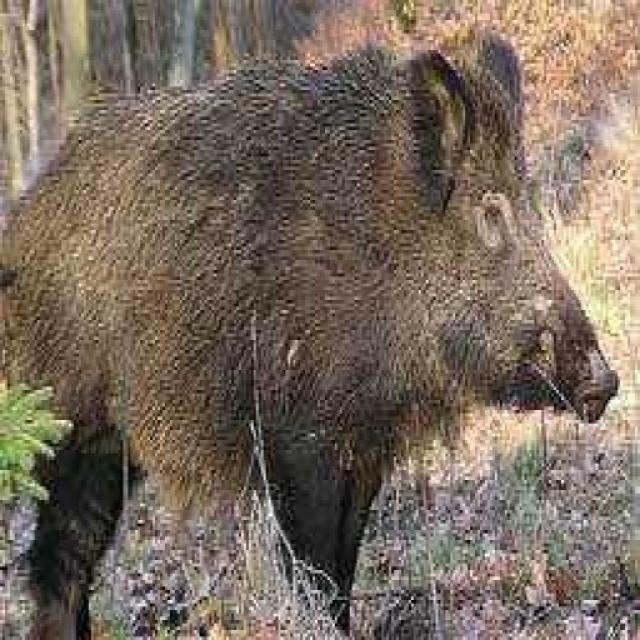pig: (11, 41, 611, 618)
